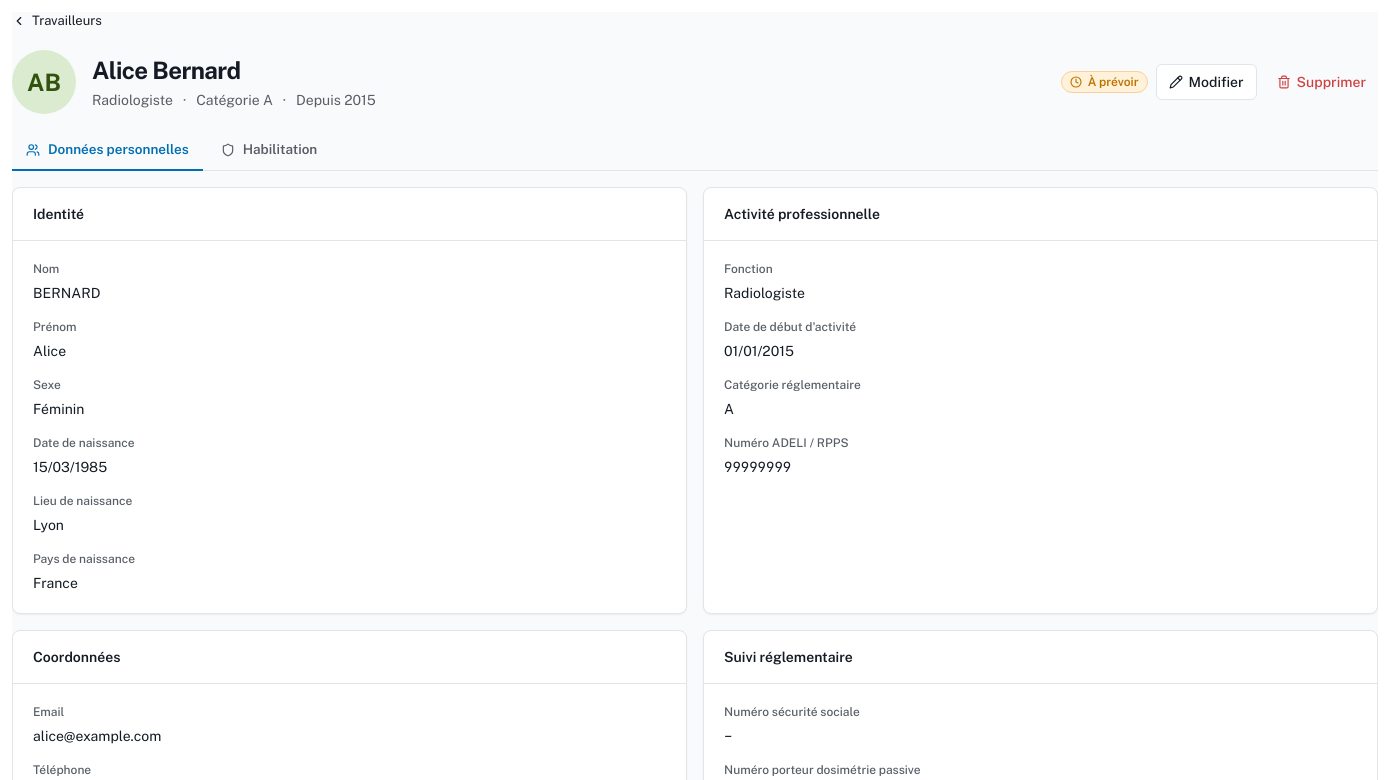
Test case: HabilitationTab — statuts des badges par item › Scénario 2 : tous les items "À prévoir" (dans la fenêtre d'alerte) › les 5 items affichent exactement 5 badges "À prévoir" (+ 1 badge récapitulatif dans l'en-tête)
The image size is (1390, 780).
Step 1. Click the button "Habilitation" → [269, 150], box [207,130,331,171]
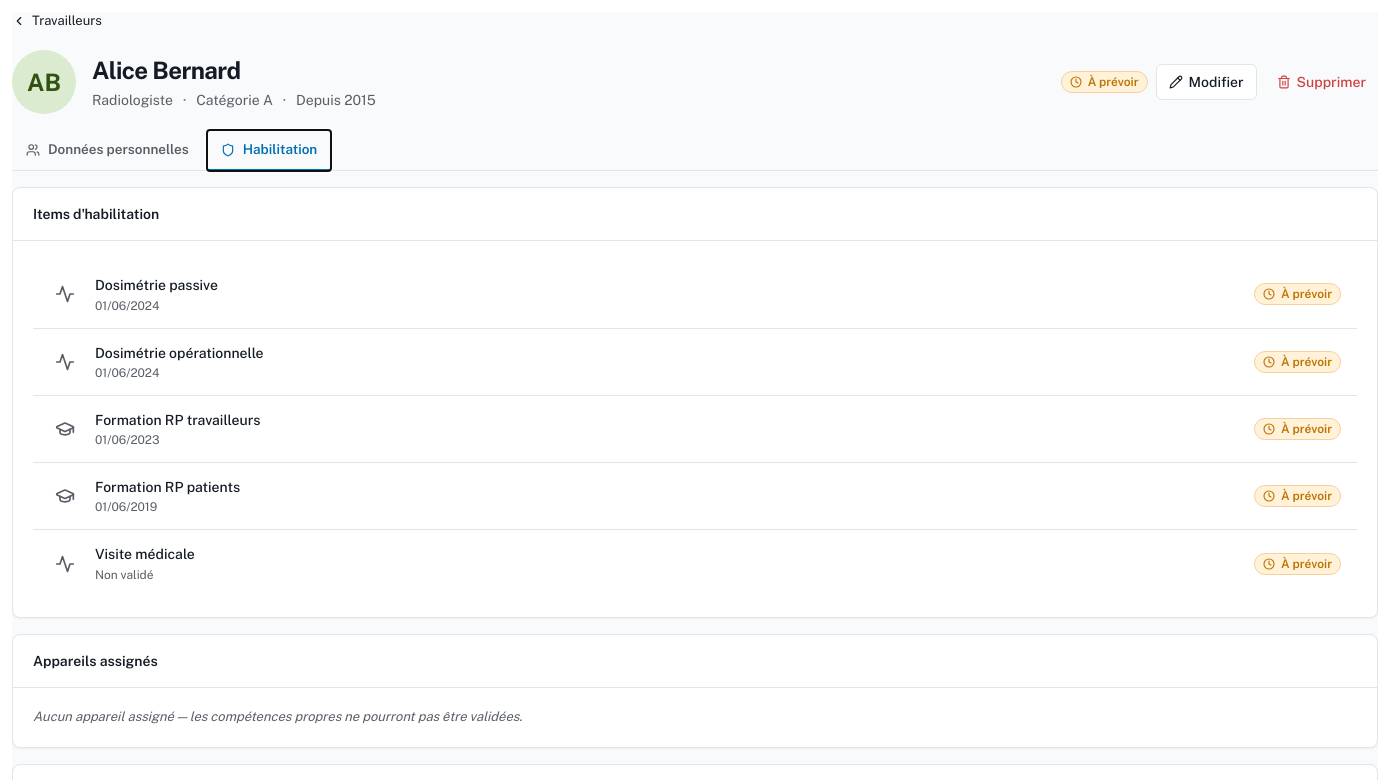
Expected: the text "Items d'habilitation" is shown, [33,204,159,224]
Expected: the text "À prévoir" is shown 6 times, [1061,71,1148,93]; [1254,283,1341,305]; [1254,351,1341,373]; [1254,418,1341,440]; [1254,485,1341,507]; [1254,553,1341,575]
